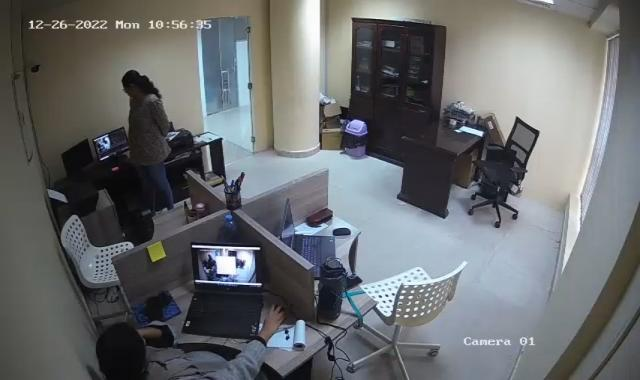no_hairnet: (94, 324, 148, 378), (120, 69, 142, 101)
